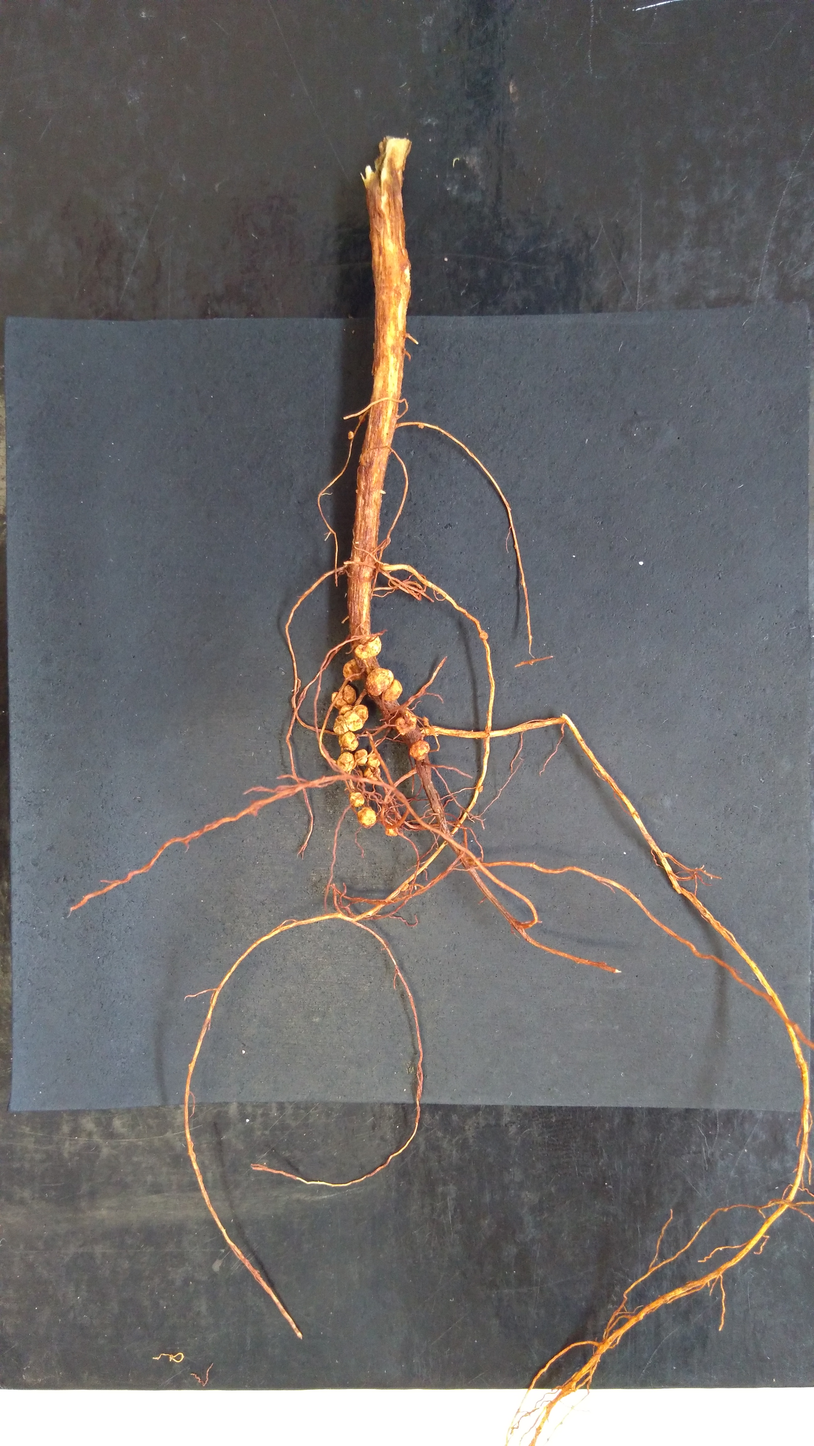nodule: (365, 666, 396, 697), (352, 635, 385, 661), (394, 709, 418, 736), (342, 658, 365, 684), (380, 678, 404, 702), (337, 730, 360, 752), (342, 709, 364, 732), (409, 739, 431, 761), (356, 806, 378, 827), (336, 751, 356, 773), (338, 683, 357, 706), (331, 714, 350, 736), (351, 704, 370, 724), (330, 690, 348, 710), (353, 747, 369, 767), (363, 765, 381, 782), (348, 791, 365, 808), (336, 703, 354, 716), (367, 752, 381, 768), (384, 827, 398, 837), (400, 883, 410, 893), (347, 430, 355, 440), (358, 414, 366, 422), (417, 424, 424, 429)
